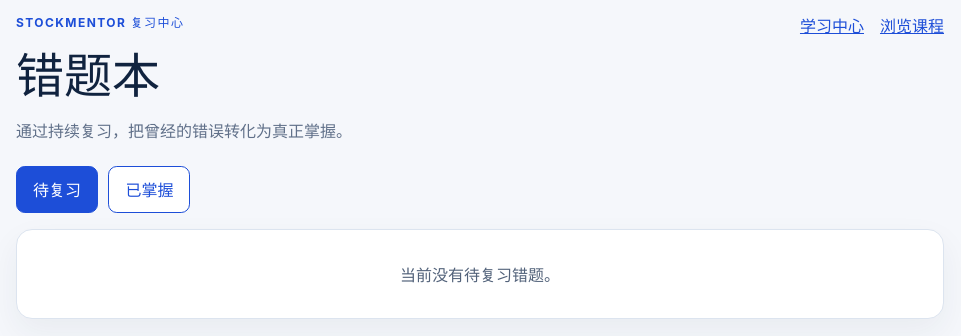
WrongQuestionsView › fetches MASTERED on tab switch and shows status-specific empty states
Click the button with test id "wrong-tab-mastered". click: click(149, 189)
box: [108, 166, 190, 213]
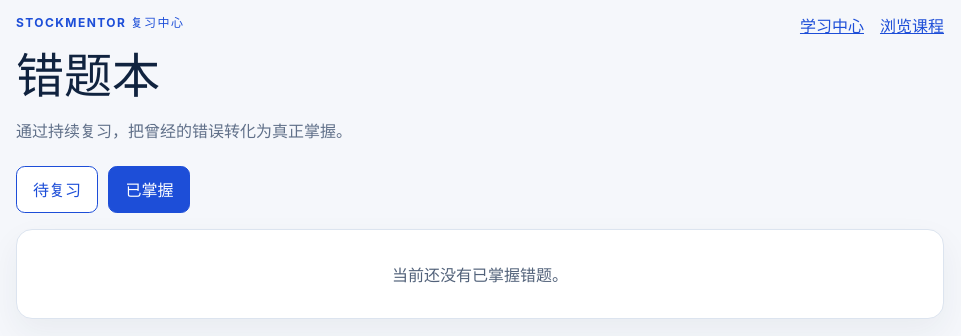
Expected: the text "当前还没有已掌握错题" is shown, [392, 264, 568, 284]
